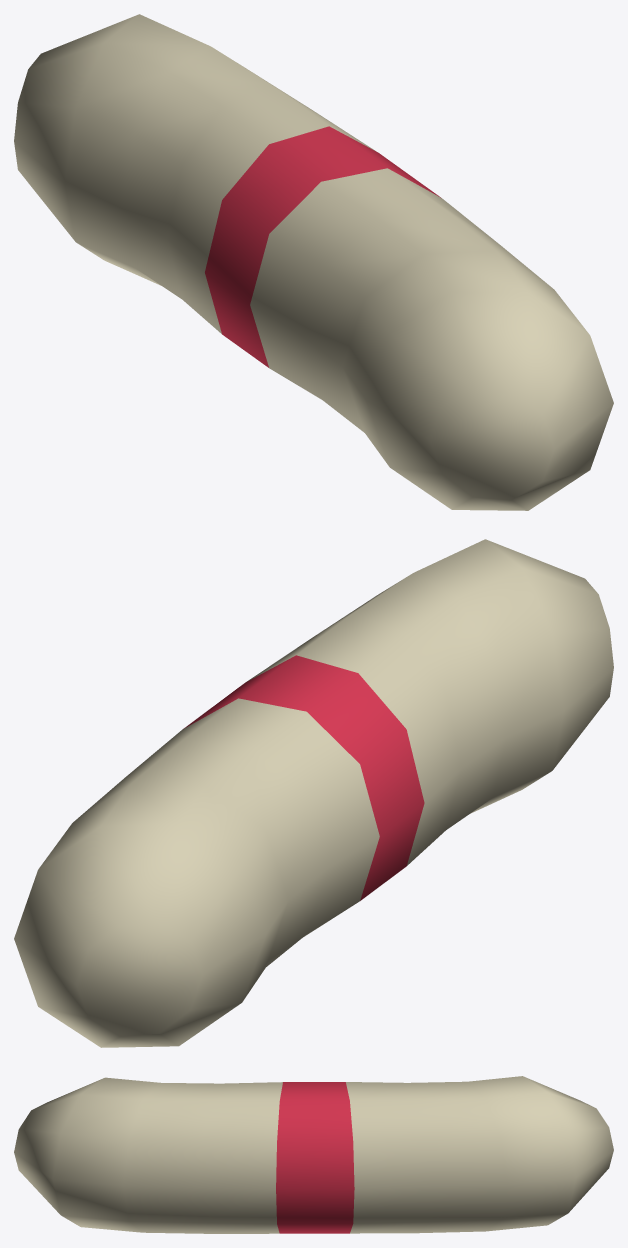
File: Fylgja.fbx
The picture shows the model from 3 angles, top to bottom: view 1: azimuth 30°, elevation 25°; view 2: azimuth 150°, elevation 25°; view 3: azimuth 270°, elevation 25°; orthographic projection. The views are drawn at different scales.
Parts seen in each view (by area): view 1: Fylgja; view 2: Fylgja; view 3: Fylgja.
Boxes of the visible parts, x1=… form: Fylgja: x1=14, y1=14, x2=613, y2=510; Fylgja: x1=14, y1=539, x2=613, y2=1047; Fylgja: x1=14, y1=1076, x2=613, y2=1233.
Size of the model in its own units: 80.52 by 76.08 by 312.
